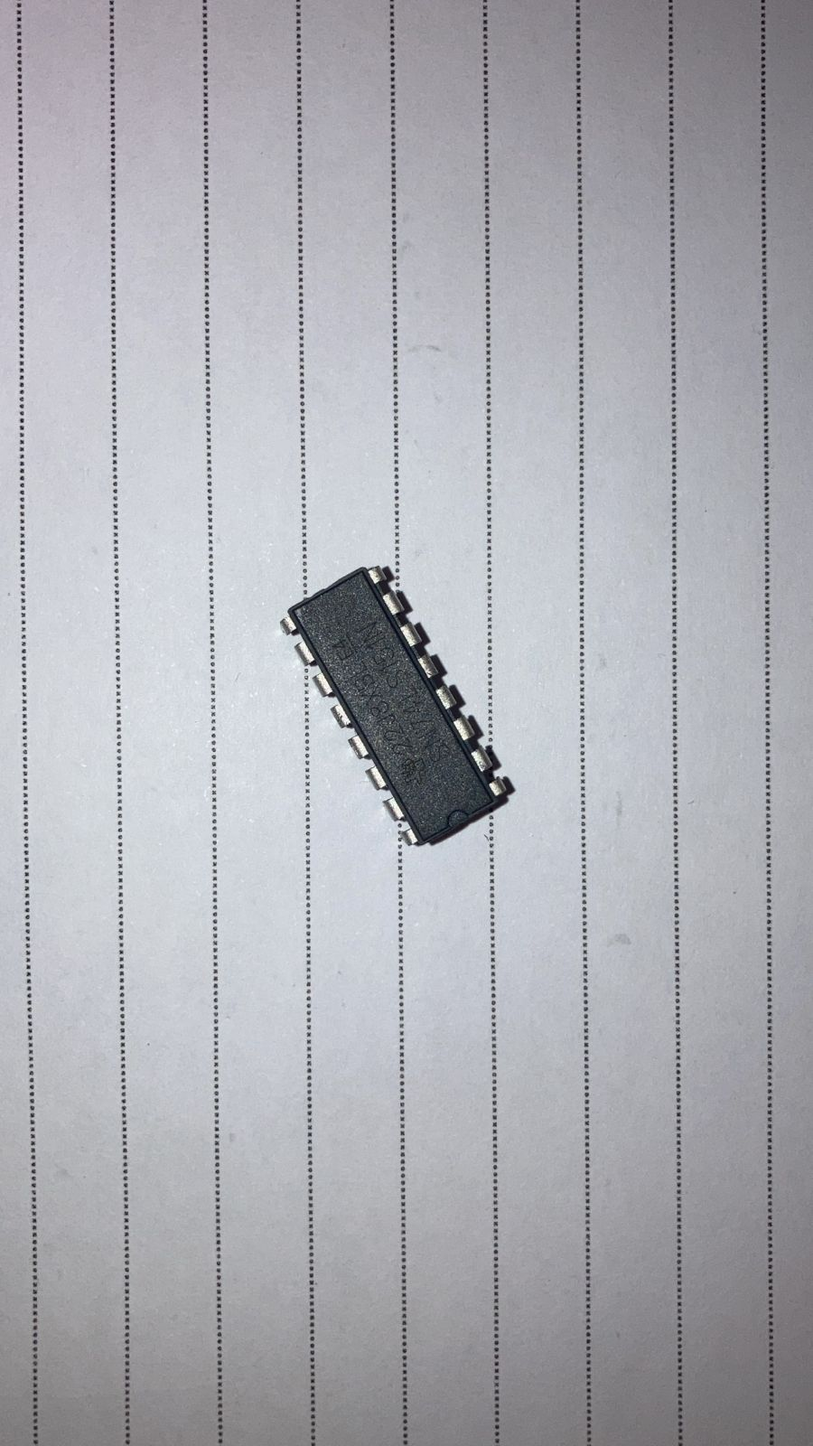IC: (270, 555, 516, 858)
notch: (444, 809, 470, 830)
